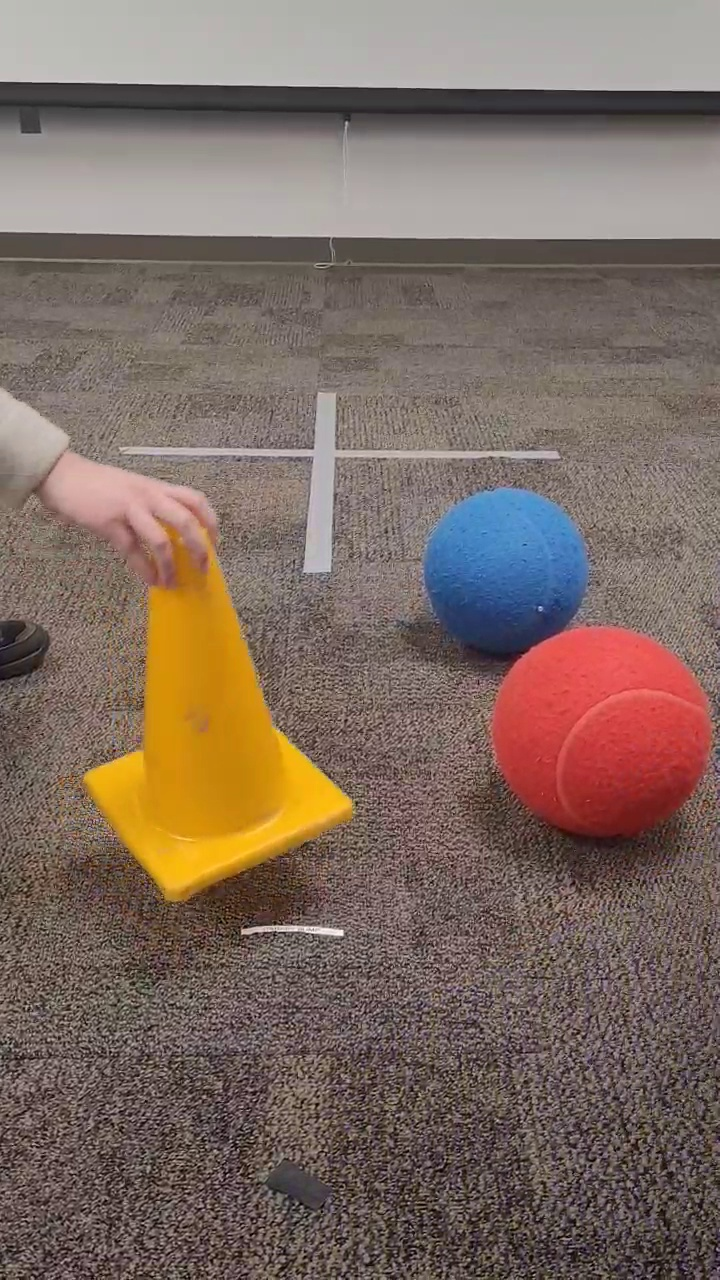ball: (485, 621, 714, 847), (418, 483, 595, 659)
cone: (71, 507, 360, 912)
foot: (1, 605, 57, 688)
hand: (1, 376, 224, 590)
